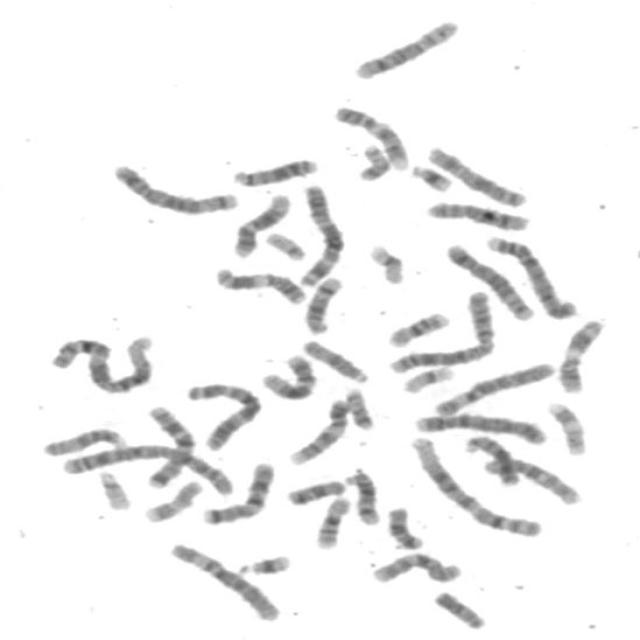A1: (403, 430, 547, 540), (44, 328, 158, 395)
A2: (55, 438, 240, 497), (384, 285, 500, 374)
A3: (181, 375, 267, 450), (292, 178, 348, 288)
B4: (480, 228, 581, 321), (409, 406, 552, 446)
B5: (439, 236, 540, 322), (106, 157, 243, 216)
C10: (478, 451, 585, 507), (366, 546, 466, 586)
C11: (552, 313, 608, 394), (210, 261, 310, 306)
C12: (227, 187, 295, 259), (255, 348, 321, 401)
C6: (163, 536, 284, 622), (428, 356, 558, 418)
C7: (195, 456, 278, 526), (140, 400, 198, 490)
C8: (347, 13, 464, 81), (421, 195, 534, 233)
C9: (329, 99, 414, 171), (284, 393, 354, 467)
D13: (458, 429, 524, 487), (227, 151, 322, 188)
D14: (298, 271, 346, 336), (342, 464, 384, 526)
D15: (296, 334, 373, 385), (36, 422, 130, 458)
E16: (381, 306, 454, 349), (309, 490, 354, 551)
E17: (138, 474, 206, 524), (542, 395, 591, 457)
E18: (381, 500, 428, 551), (281, 473, 350, 506)
F19: (396, 360, 458, 395), (363, 238, 409, 285)
F20: (339, 382, 379, 431), (352, 138, 394, 182)
G21: (232, 548, 294, 577), (406, 158, 457, 193)
G22: (92, 465, 135, 512), (260, 226, 310, 262)
X: (421, 141, 531, 209)
Y: (428, 585, 491, 631)
